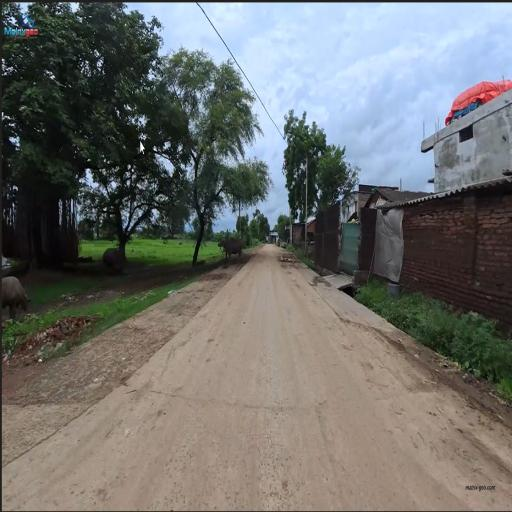longitudinal_crack: (142, 379, 335, 430)
